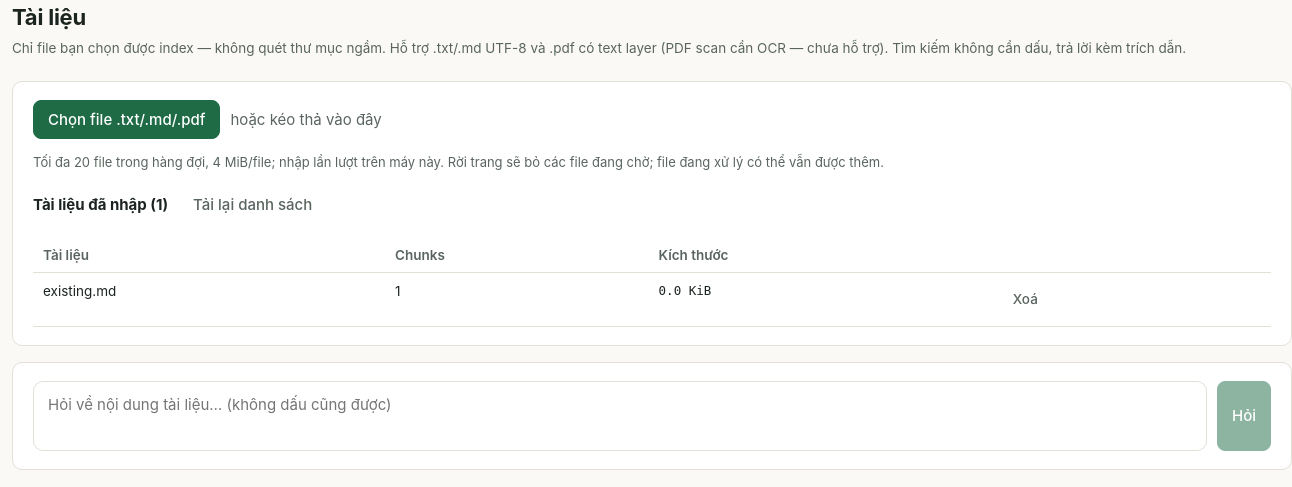
Test: ignores an older answer after confirmed deletion, even if its response arrives late
Type "Câu hỏi?" into the text box named "Câu hỏi về tài liệu" at (620, 416), box [33,380,1207,451]
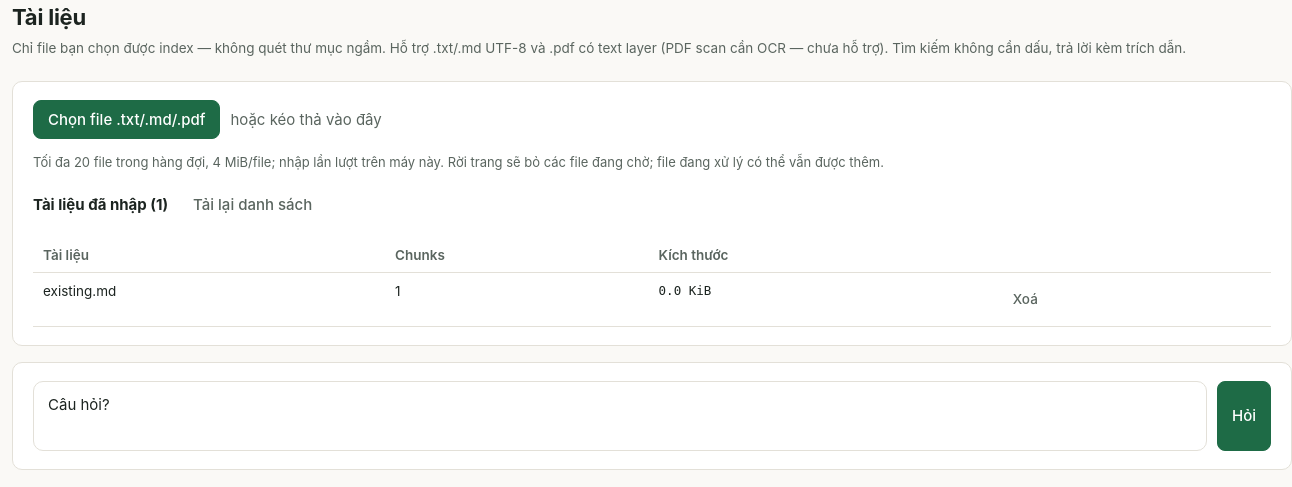
Click the button "Hỏi" at (1244, 416), box [1217,380,1271,451]
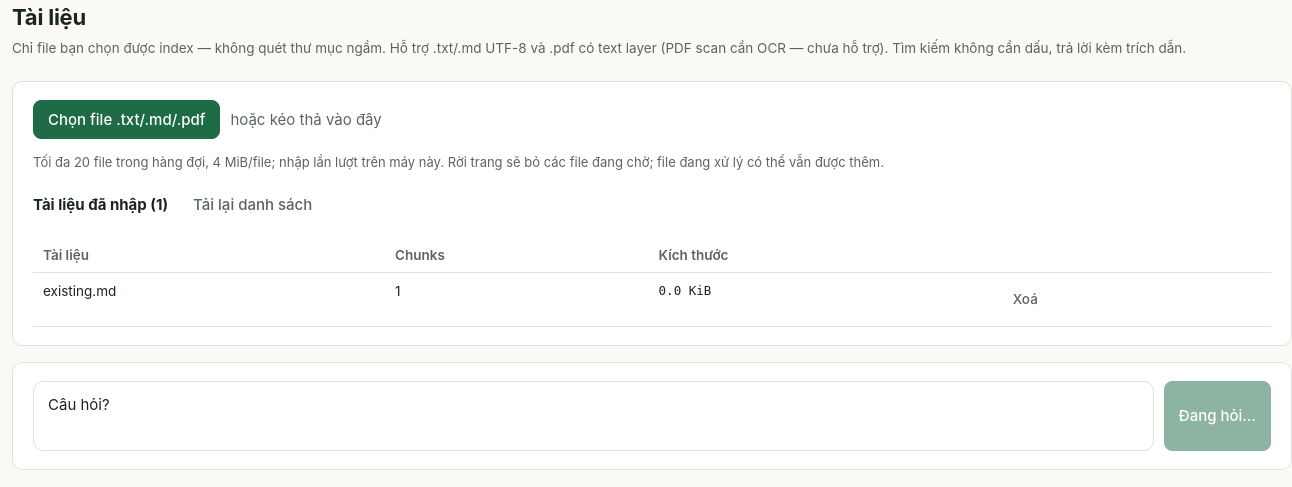
Click the button with aria-label "Xoá existing.md" at (1025, 299), box [998,281,1053,318]
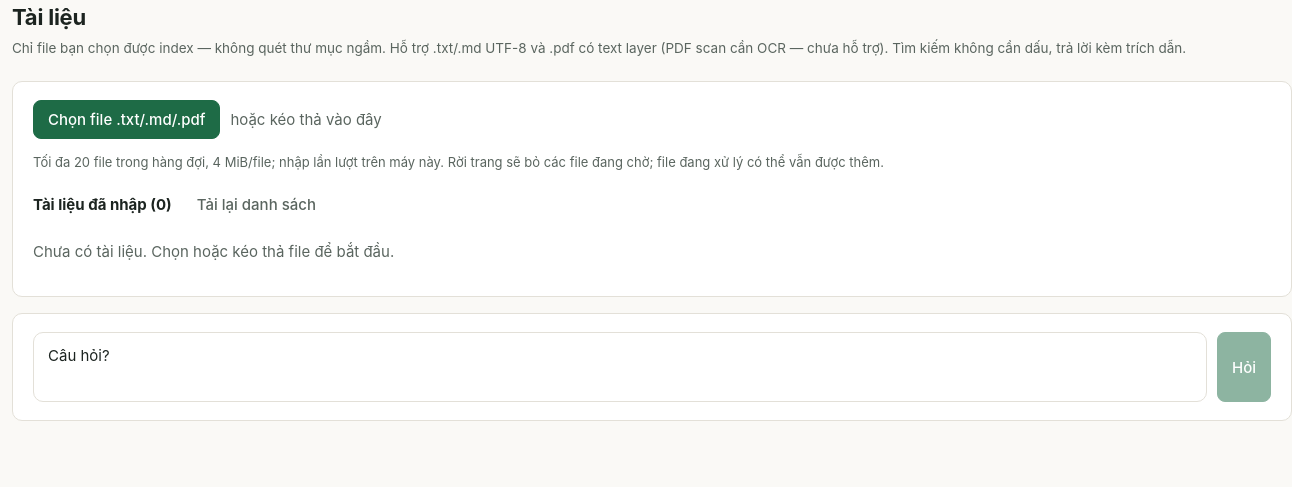
Check: the text "Chưa có tài liệu. Chọn hoặc kéo thả file để bắt đầu." is shown, box [33,242,394,261]
